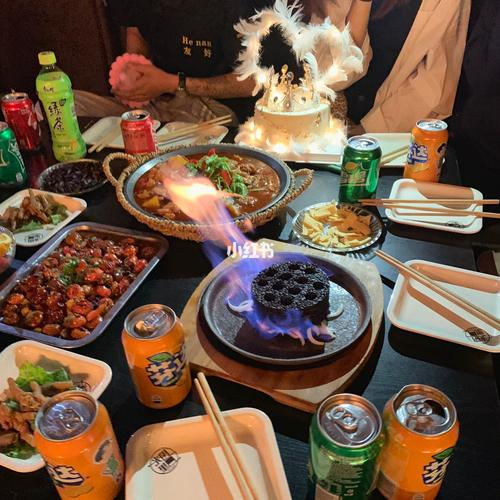food: (197, 235, 376, 378), (2, 216, 168, 343), (123, 135, 295, 231), (1, 342, 102, 467), (292, 192, 381, 253), (4, 186, 85, 249)
